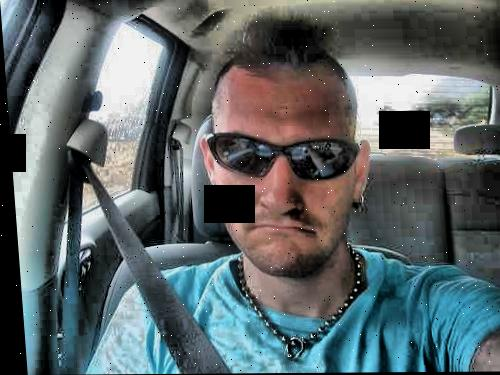seatbelt: (44, 145, 205, 342)
